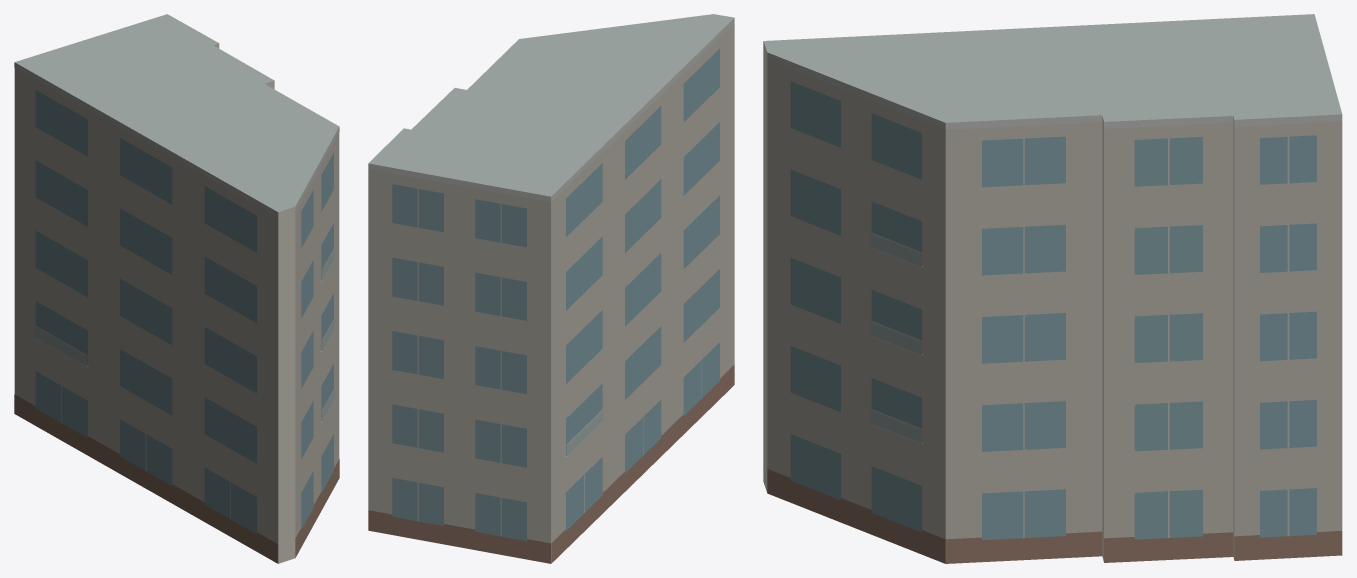
The model's file is survey-upis-32641202.glb.
The picture shows the model from 3 angles, left to right: view 1: azimuth 30°, elevation 25°; view 2: azimuth 150°, elevation 25°; view 3: azimuth 270°, elevation 25°; orthographic projection. The views are drawn at different scales.
Parts seen in each view (by area): view 1: survey-upis-32641202.tmp; view 2: survey-upis-32641202.tmp; view 3: survey-upis-32641202.tmp.
Part boxes in pixels (box(x1,y1,x2,y2)): survey-upis-32641202.tmp: box(14, 14, 339, 563); survey-upis-32641202.tmp: box(368, 14, 734, 563); survey-upis-32641202.tmp: box(763, 14, 1342, 563).
Size of the model in its own units: 8.32 by 15.7 by 18.69.
